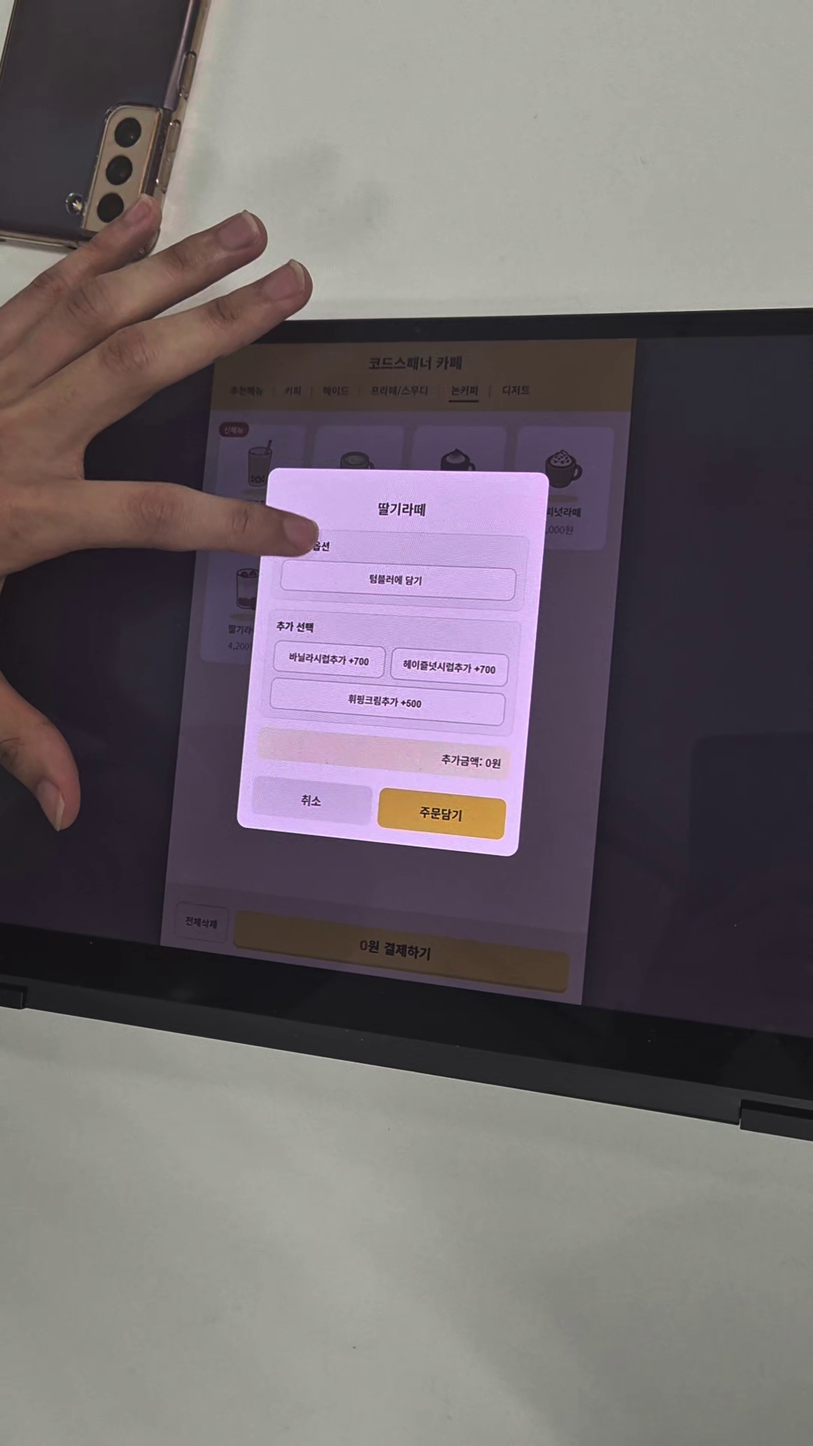action_button: (232, 909, 573, 994), (377, 787, 506, 839), (251, 775, 372, 826), (175, 903, 231, 944)
category_tab: (370, 384, 430, 397), (448, 385, 481, 397), (320, 384, 349, 396), (501, 384, 532, 395), (231, 387, 263, 397), (283, 385, 305, 398)
menu_back: (508, 426, 615, 551), (210, 423, 306, 546), (201, 551, 299, 668)
menu_name: (535, 507, 584, 519), (227, 622, 263, 638)
menu_price: (539, 525, 576, 537), (226, 640, 257, 652)
option_button: (269, 678, 504, 726), (280, 559, 517, 601), (390, 648, 508, 686), (272, 640, 385, 679)
popup_modal: (235, 467, 549, 859)
